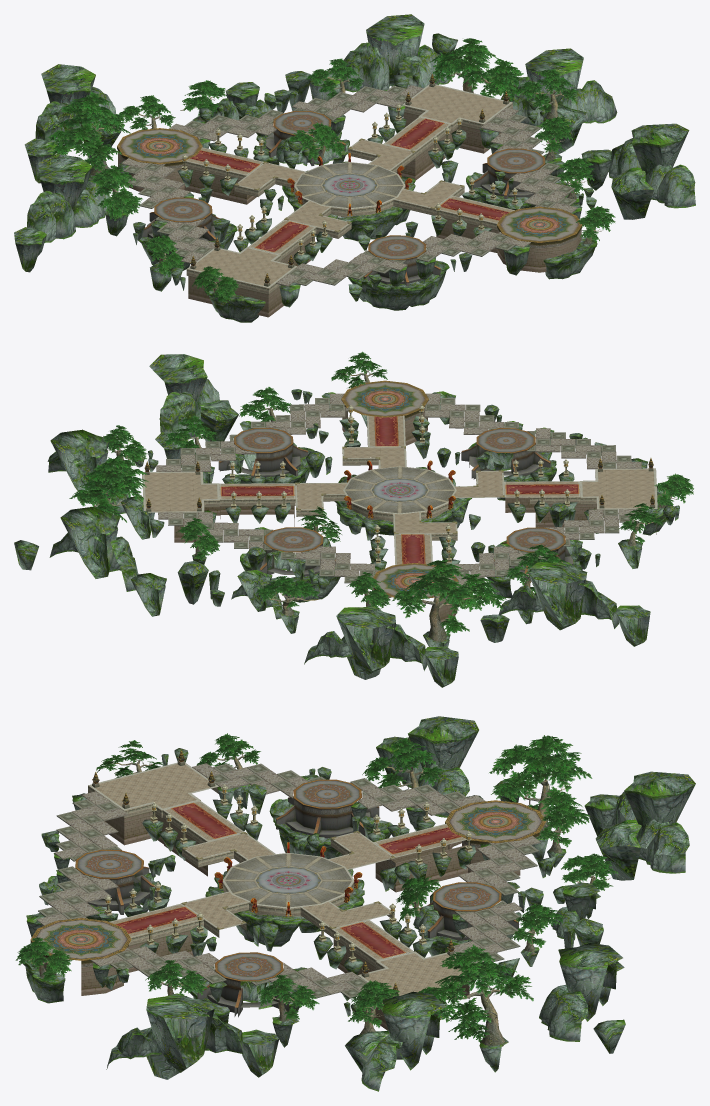
File: SSJD.FBX
3 renders of one model, top to bottom at view 1: azimuth 30°, elevation 25°; view 2: azimuth 150°, elevation 25°; view 3: azimuth 270°, elevation 25°, orthographic. The views are drawn at different scales.
Parts seen in each view (by area): view 1: SSJD_Terrain_01_a, SSJD_stone_02, SSJD_stone_09, SSJD_stone_05, SSJD_stone_07, SSJD_Terrain_02_a, SSJD_Terrain_03_a, SSJD_Terrain_04_a, SSJD_Terrain_05_a, SSJD_stone_03, SSJD_plant_03, SSJD_stone_04 (+27 smaller); view 2: SSJD_Terrain_01_a, SSJD_stone_09, SSJD_stone_02, SSJD_stone_10, SSJD_stone_05, SSJD_stone_07, SSJD_Terrain_03_a, SSJD_Terrain_02_a, SSJD_stone_11, SSJD_Terrain_04_a, SSJD_plant_03, SSJD_stone_03 (+25 smaller); view 3: SSJD_Terrain_01_a, SSJD_stone_02, SSJD_stone_05, SSJD_stone_10, SSJD_stone_09, SSJD_Terrain_03_a, SSJD_Terrain_04_a, SSJD_Terrain_05_a, SSJD_stone_07, SSJD_plant_03, SSJD_Terrain_02_a, SSJD_plant_05 (+29 smaller).
Part boxes in pixels (x1=…): SSJD_Terrain_01_a: x1=234, y1=138, x2=464, y2=238; SSJD_stone_02: x1=367, y1=48, x2=617, y2=168; SSJD_stone_09: x1=14, y1=154, x2=237, y2=272; SSJD_stone_05: x1=466, y1=123, x2=695, y2=219; SSJD_stone_07: x1=310, y1=14, x2=457, y2=100; SSJD_Terrain_02_a: x1=358, y1=84, x2=541, y2=157; SSJD_Terrain_03_a: x1=170, y1=219, x2=341, y2=294; SSJD_Terrain_04_a: x1=434, y1=190, x2=582, y2=251; SSJD_Terrain_05_a: x1=117, y1=120, x2=263, y2=180; SSJD_stone_03: x1=150, y1=206, x2=332, y2=322; SSJD_plant_03: x1=48, y1=91, x2=175, y2=171; SSJD_stone_04: x1=431, y1=177, x2=597, y2=279; SSJD_Terrain_01_a: x1=295, y1=446, x2=504, y2=540; SSJD_stone_09: x1=471, y1=502, x2=650, y2=646; SSJD_stone_02: x1=47, y1=429, x2=294, y2=539; SSJD_stone_10: x1=304, y1=606, x2=458, y2=687; SSJD_stone_05: x1=149, y1=354, x2=314, y2=483; SSJD_stone_07: x1=14, y1=507, x2=166, y2=616; SSJD_Terrain_03_a: x1=504, y1=445, x2=657, y2=533; SSJD_Terrain_02_a: x1=142, y1=448, x2=295, y2=536; SSJD_stone_11: x1=177, y1=527, x2=340, y2=633; SSJD_Terrain_04_a: x1=304, y1=380, x2=465, y2=446; SSJD_plant_03: x1=346, y1=559, x2=506, y2=635; SSJD_stone_03: x1=505, y1=458, x2=679, y2=568; SSJD_Terrain_01_a: x1=181, y1=831, x2=395, y2=937; SSJD_stone_02: x1=313, y1=903, x2=519, y2=1091; SSJD_stone_05: x1=106, y1=969, x2=299, y2=1079; SSJD_stone_10: x1=584, y1=771, x2=695, y2=880; SSJD_stone_09: x1=241, y1=716, x2=520, y2=858; SSJD_Terrain_03_a: x1=56, y1=762, x2=269, y2=843; SSJD_Terrain_04_a: x1=30, y1=899, x2=204, y2=970; SSJD_Terrain_05_a: x1=373, y1=791, x2=546, y2=862; SSJD_stone_07: x1=539, y1=943, x2=625, y2=1053; SSJD_plant_03: x1=489, y1=735, x2=592, y2=847; SSJD_Terrain_02_a: x1=307, y1=920, x2=520, y2=998; SSJD_plant_05: x1=418, y1=944, x2=533, y2=1041.
Size of the model in its own units: 188 by 33.8 by 158.
